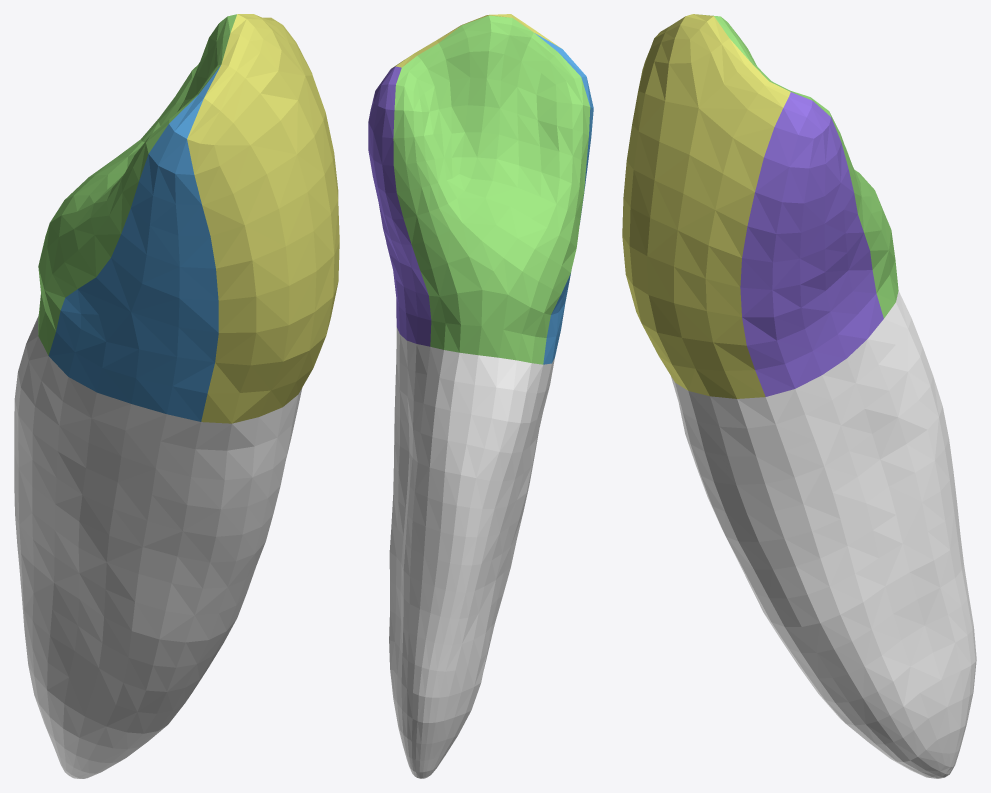
File: tooth_33_annotated.glb
The picture shows the model from 3 angles, left to right: view 1: azimuth 30°, elevation 25°; view 2: azimuth 150°, elevation 25°; view 3: azimuth 270°, elevation 25°; orthographic projection. The views are drawn at different scales.
Visible parts, largest first — view 1: FDI_33; view 2: FDI_33; view 3: FDI_33.
Part boxes in pixels (left/top/right/bottom): FDI_33: left=14, top=14, right=339, bottom=778; FDI_33: left=368, top=14, right=593, bottom=778; FDI_33: left=622, top=14, right=976, bottom=778.
Bounding box in the file's own units: 0.0065 × 0.0217 × 0.00892.
